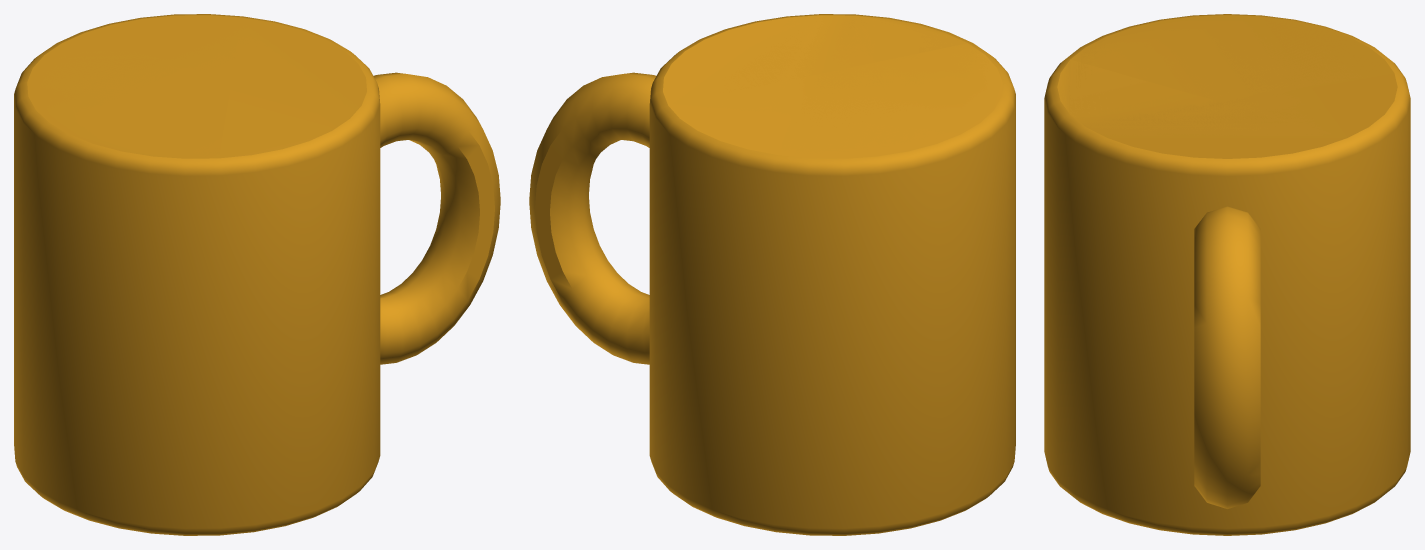
File: coffee_mug.glb
3 views of the same model, side by side, from view 1: azimuth 30°, elevation 25°; view 2: azimuth 150°, elevation 25°; view 3: azimuth 270°, elevation 25° (orthographic).
Visible parts, largest first — view 1: coffee_mug; view 2: coffee_mug; view 3: coffee_mug.
Boxes of the visible parts, bbox=[...] form: coffee_mug: bbox=[14, 14, 500, 535]; coffee_mug: bbox=[529, 14, 1015, 535]; coffee_mug: bbox=[1044, 14, 1410, 535].
Size of the model in its own units: 0.1208 by 0.095 by 0.084.
